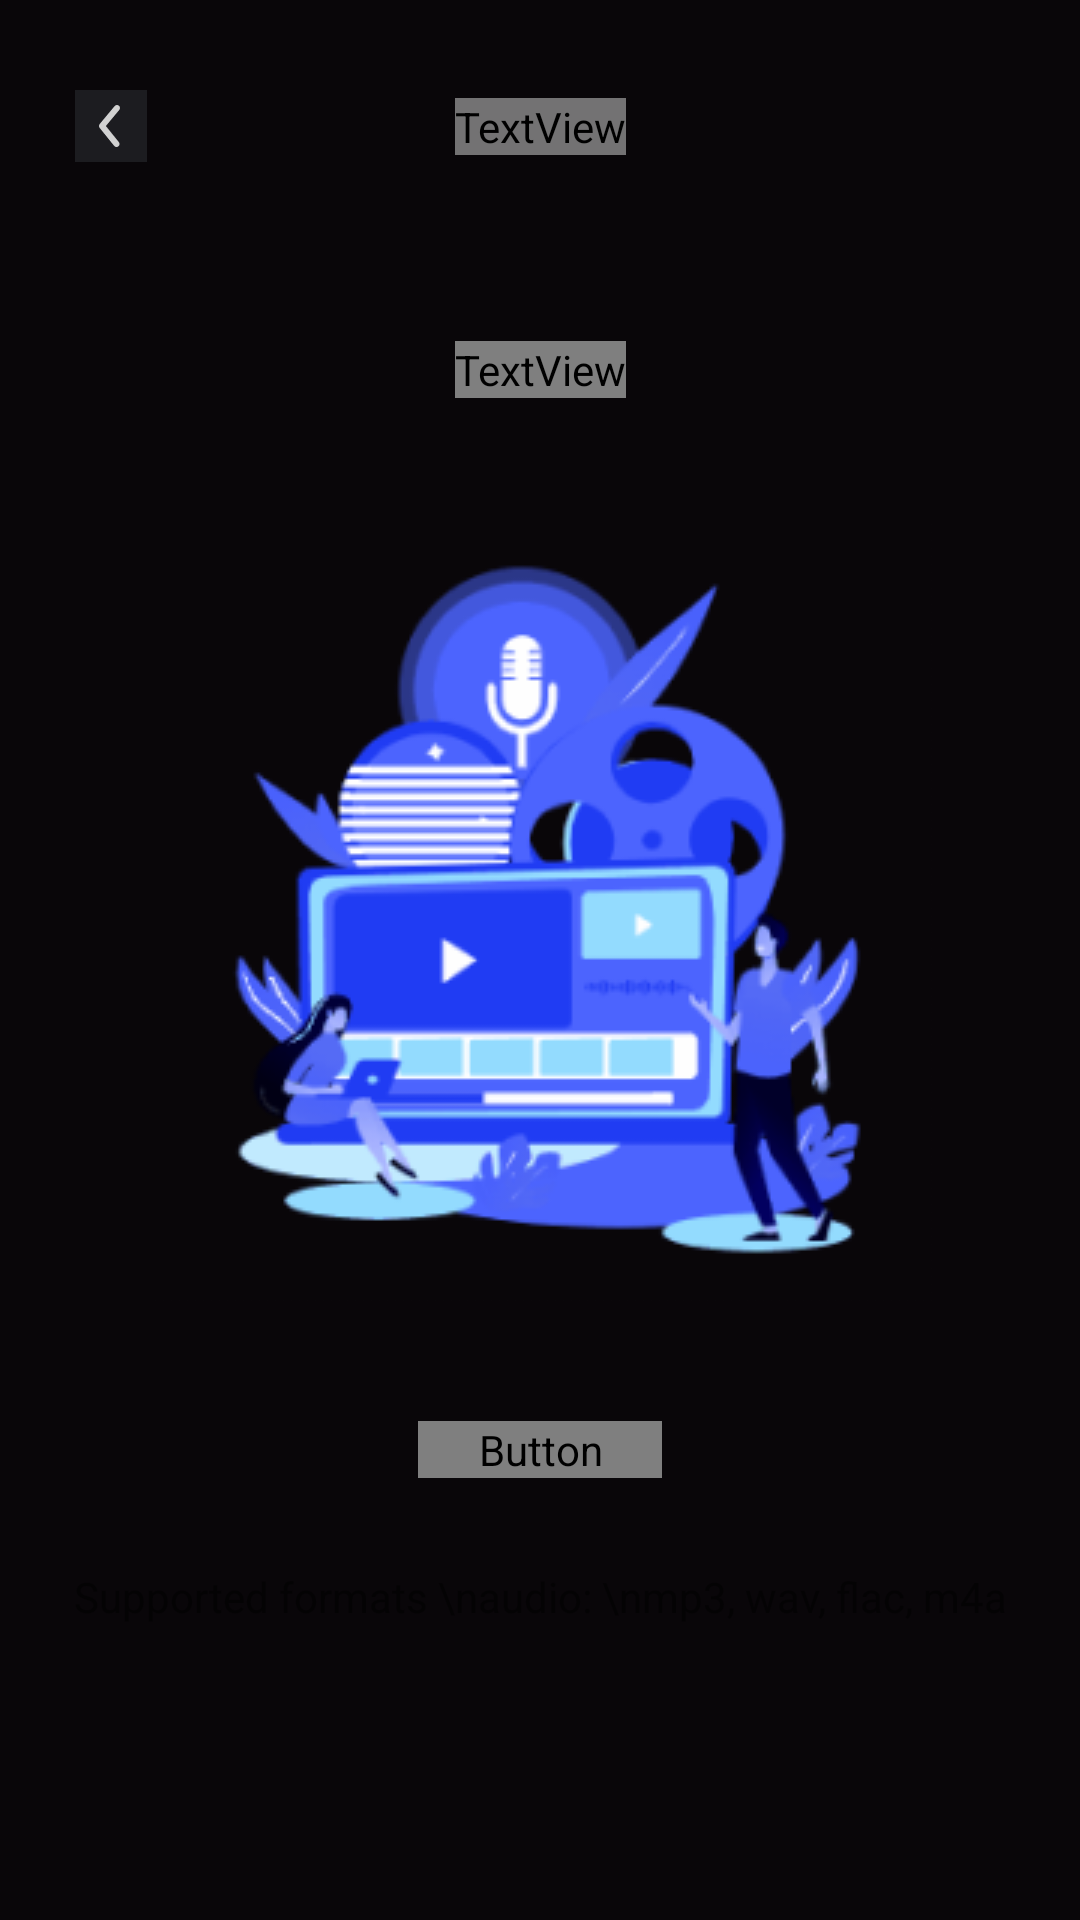

Icon click points for this 1080px×1920px phone screenshot, format (x=x, y=y):
back: (x=111, y=126)
